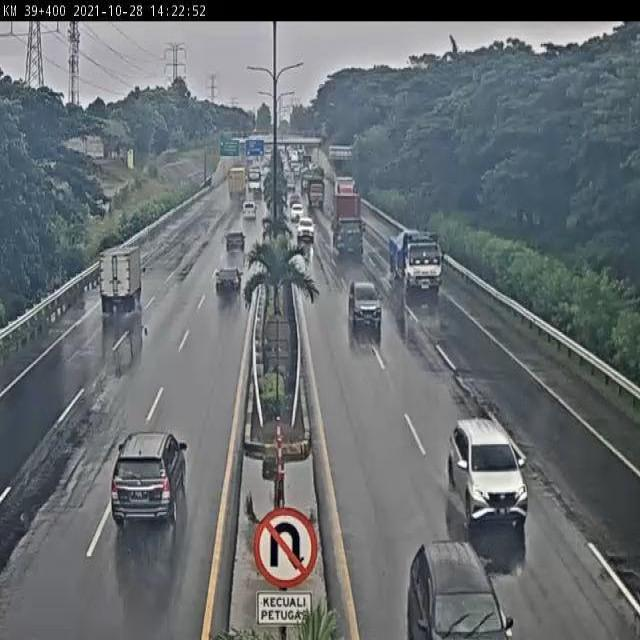truck-l-: (389, 229, 445, 295)
truck-s-: (98, 244, 143, 315)
truck-xl-: (329, 192, 367, 256)
